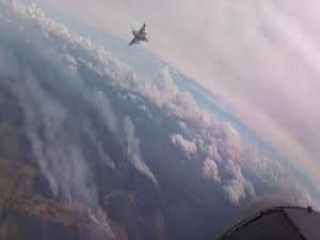smoke: (19, 70, 152, 224), (160, 82, 259, 207)
